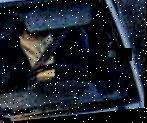seatbelt: (31, 22, 79, 68)
